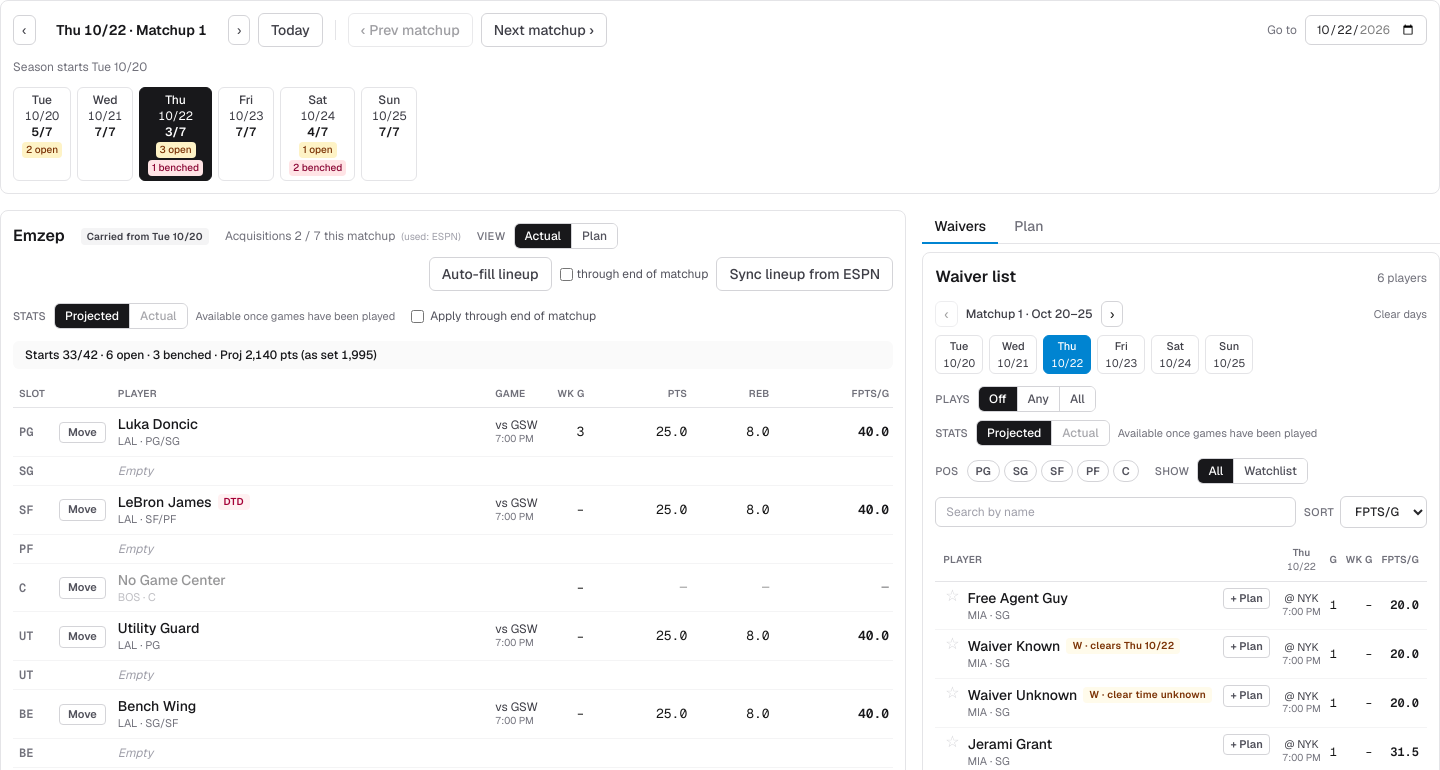
Test: the plan roster › names the day a carried lineup comes from, in both views
The width and height of the screenshot is (1440, 770).
Expected: the button "Luka Doncic" is shown, top-left (118, 414), bottom-right (198, 434)
Expected: the button "Free Agent Guy" is shown, top-left (968, 588), bottom-right (1068, 608)
Click the button with aria-label "Plan view" at (595, 236), box top-left (572, 224), bottom-right (617, 248)
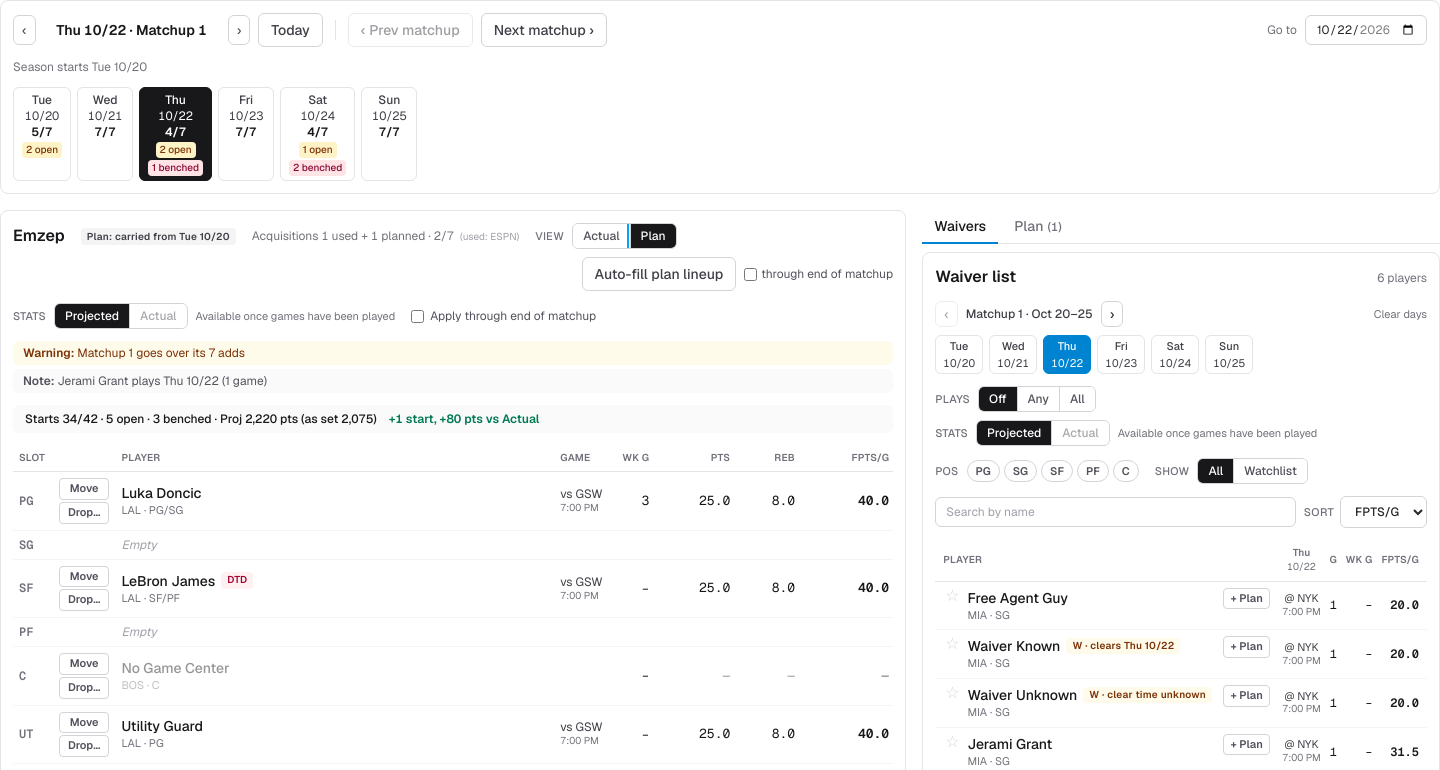
Expected: the text "Plan: carried from Tue 10/20" is shown, top-left (81, 228), bottom-right (236, 244)
